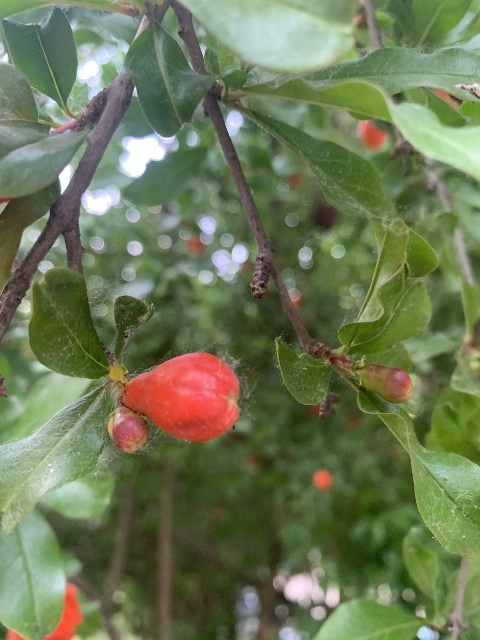bud: (123, 352, 240, 443), (362, 364, 412, 403), (108, 409, 148, 453)
